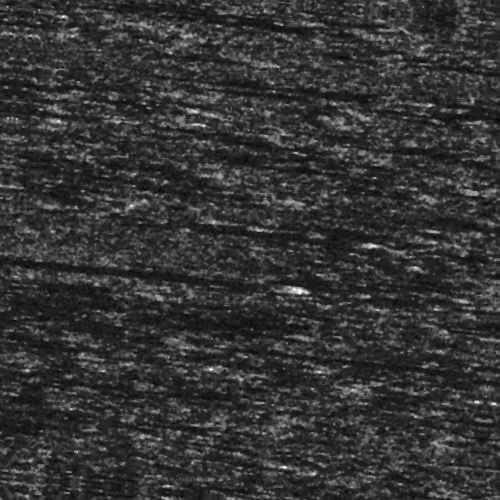object: (237, 277, 352, 286), (465, 339, 500, 360), (350, 223, 391, 238), (307, 17, 370, 26), (128, 297, 191, 306), (366, 83, 429, 88), (14, 485, 77, 490), (274, 13, 315, 18), (247, 396, 288, 401), (230, 58, 241, 63)
shadow: (264, 339, 500, 360), (118, 223, 370, 238), (0, 277, 294, 286), (150, 17, 338, 26), (22, 297, 160, 306), (151, 83, 397, 88), (103, 13, 294, 18), (415, 46, 500, 51), (198, 396, 267, 401), (171, 58, 235, 63), (0, 485, 46, 490)
